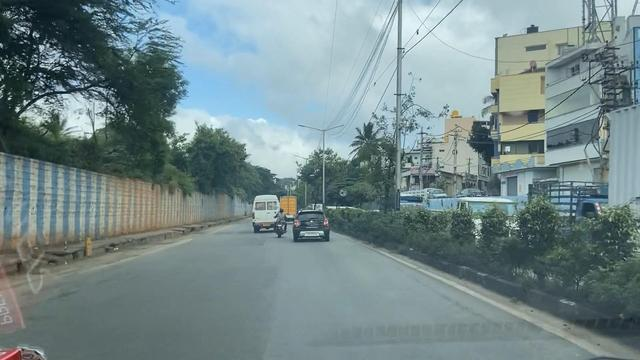LMV: (293, 210, 329, 242), (275, 208, 287, 239)
